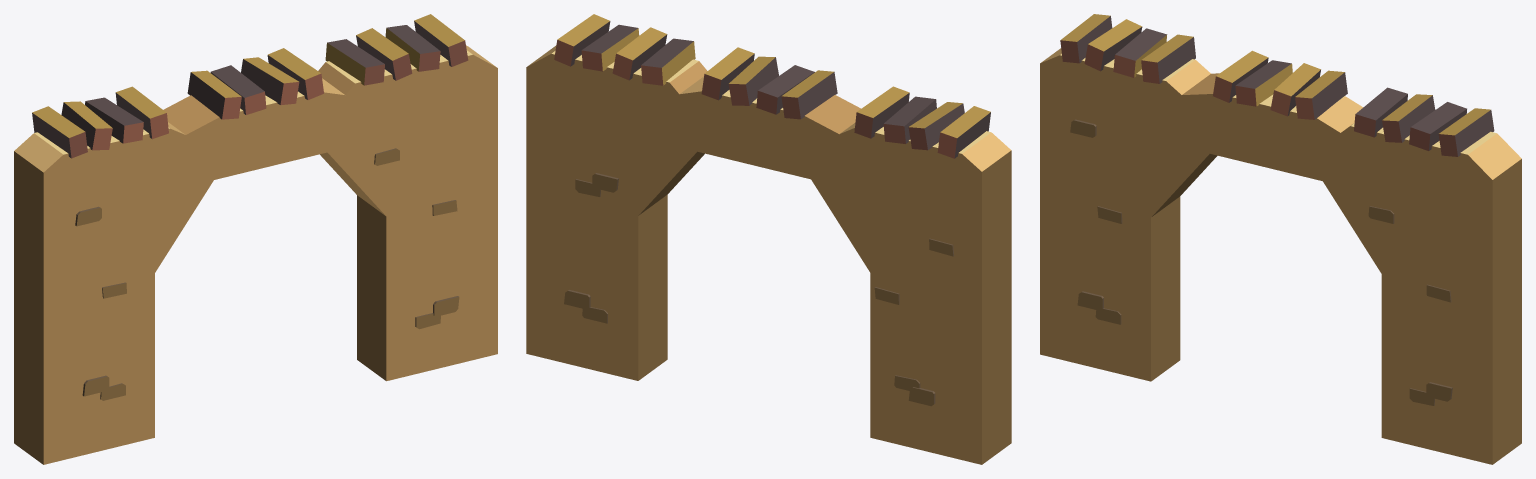
The model's file is TB_D_Bd_Gate_A_Yel.FBX.
3 views of the same model, side by side, from view 1: azimuth 30°, elevation 25°; view 2: azimuth 150°, elevation 25°; view 3: azimuth 330°, elevation 25° (orthographic).
Parts seen in each view (by area): view 1: TB_D_Bd_Gate_A_Yel; view 2: TB_D_Bd_Gate_A_Yel; view 3: TB_D_Bd_Gate_A_Yel.
Boxes of the visible parts, box(x1,y1,x2,y2) form: TB_D_Bd_Gate_A_Yel: box(14, 14, 497, 464); TB_D_Bd_Gate_A_Yel: box(526, 14, 1011, 464); TB_D_Bd_Gate_A_Yel: box(1040, 14, 1521, 464).
Size of the model in its own units: 6.23 by 4.27 by 0.8679.
